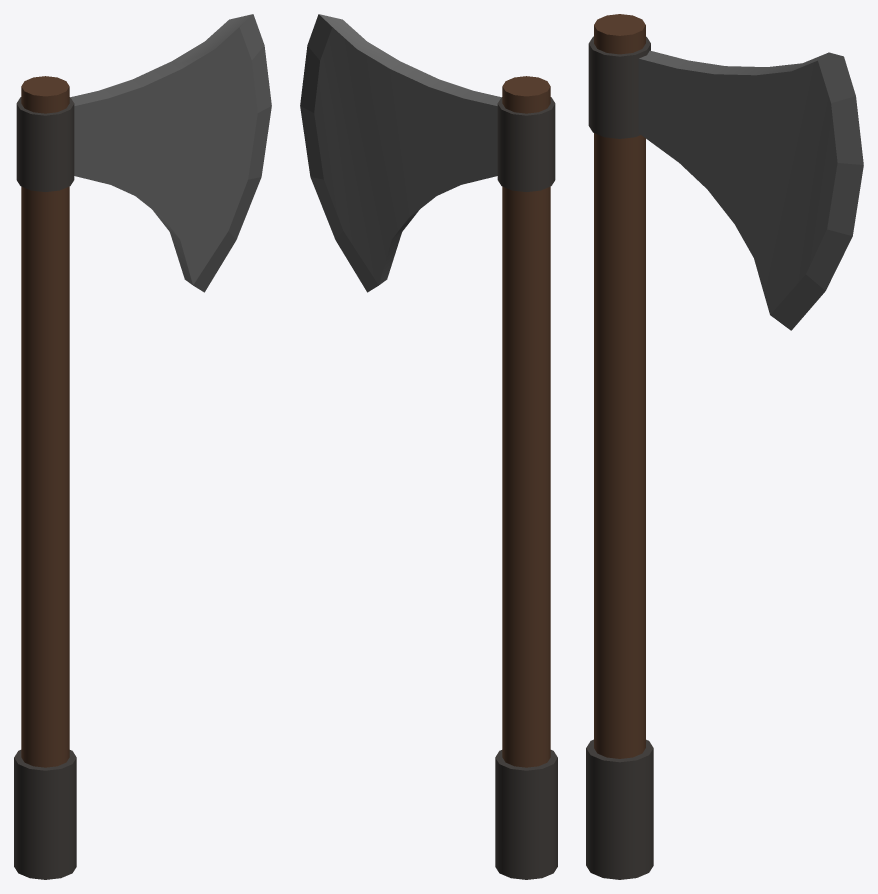
File: Hand Axe.fbx
The picture shows the model from 3 angles, left to right: view 1: azimuth 30°, elevation 25°; view 2: azimuth 150°, elevation 25°; view 3: azimuth 330°, elevation 25°; orthographic projection. The views are drawn at different scales.
Parts seen in each view (by area): view 1: Hand Axe_Baked; view 2: Hand Axe_Baked; view 3: Hand Axe_Baked.
Part boxes in pixels (x1,y1,x2,y2): Hand Axe_Baked: [14, 14, 271, 879]; Hand Axe_Baked: [300, 14, 557, 879]; Hand Axe_Baked: [586, 14, 863, 879].
Bounding box in the file's own units: 17 × 51.38 × 3.64.
Materials: 1 (1 with a texture image).
